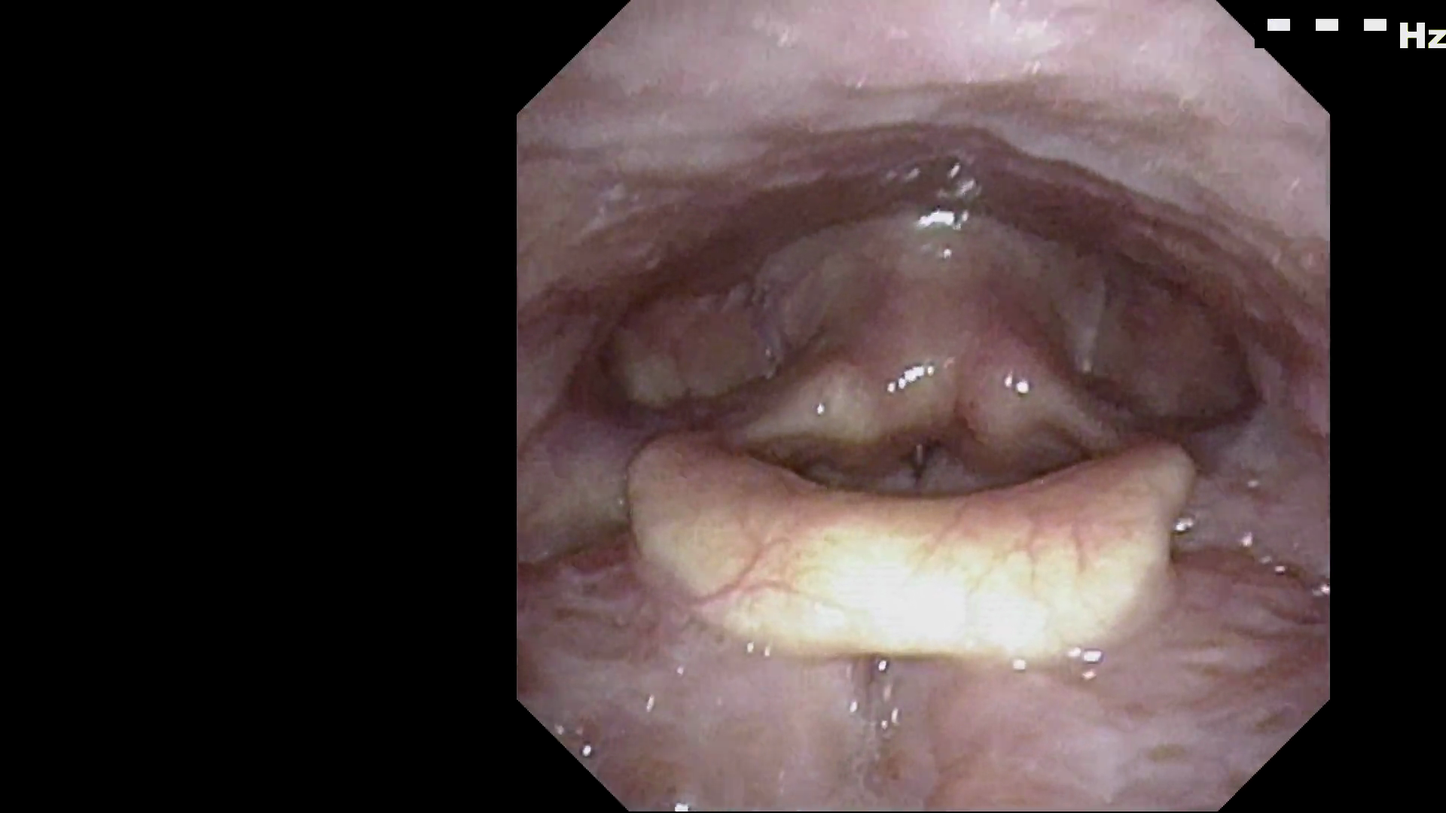epiglottis: (622, 414, 1224, 687)
trachea: (869, 392, 977, 522)
